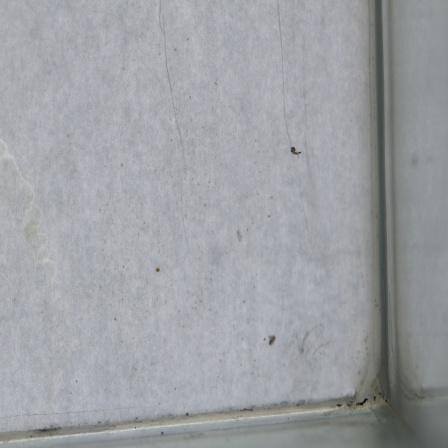Jentik-Nyamuk: (283, 141, 304, 159)
